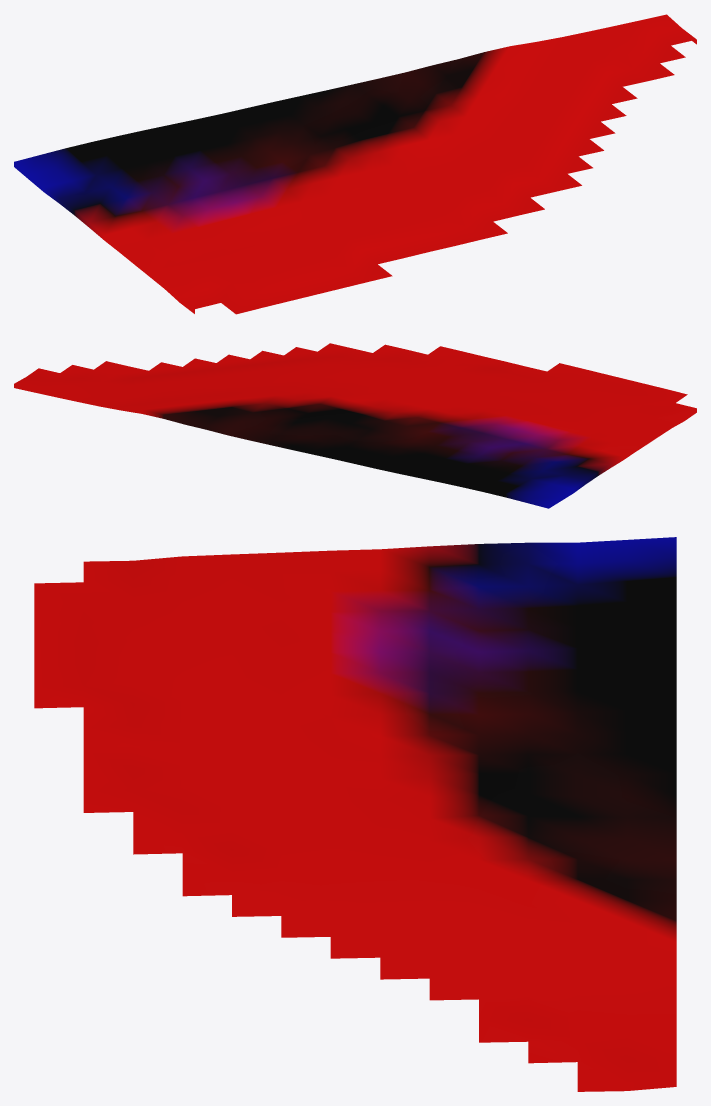
File: coast_17_9.glb
3 renders of one model, top to bottom at view 1: azimuth 30°, elevation 25°; view 2: azimuth 150°, elevation 25°; view 3: azimuth 270°, elevation 25°, orthographic. The views are drawn at different scales.
Parts seen in each view (by area): view 1: terrain; view 2: terrain; view 3: terrain.
Part boxes in pixels (x1,y1,x2,y2): terrain: (14, 14, 696, 314); terrain: (14, 343, 696, 508); terrain: (34, 537, 676, 1091).
Bounding box in the file's own units: 200 × 6.16 × 104.
